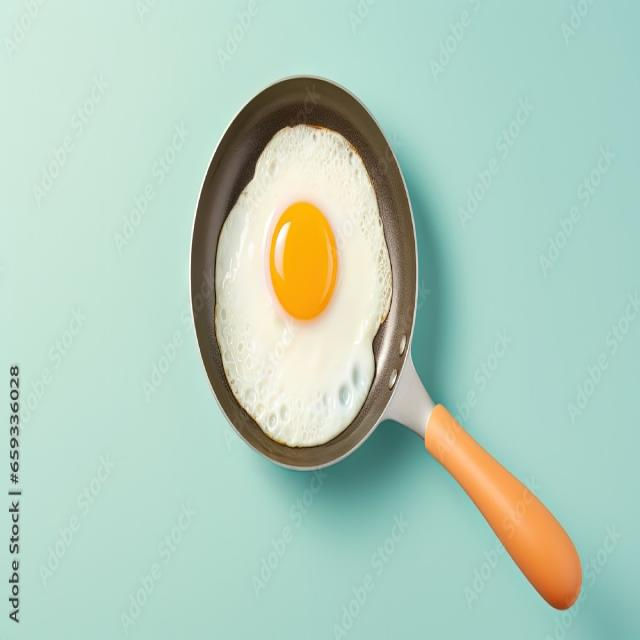Egg: (215, 127, 392, 446)
